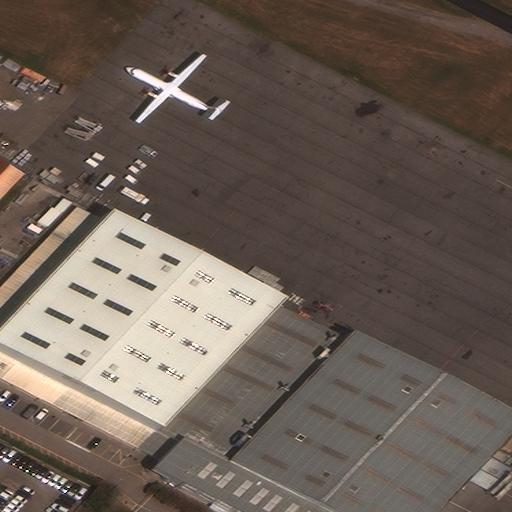Medium Civil Transport: (122, 52, 225, 121)
